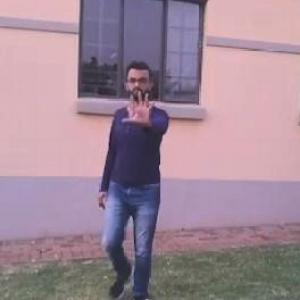follow_hand: (119, 84, 159, 126)
